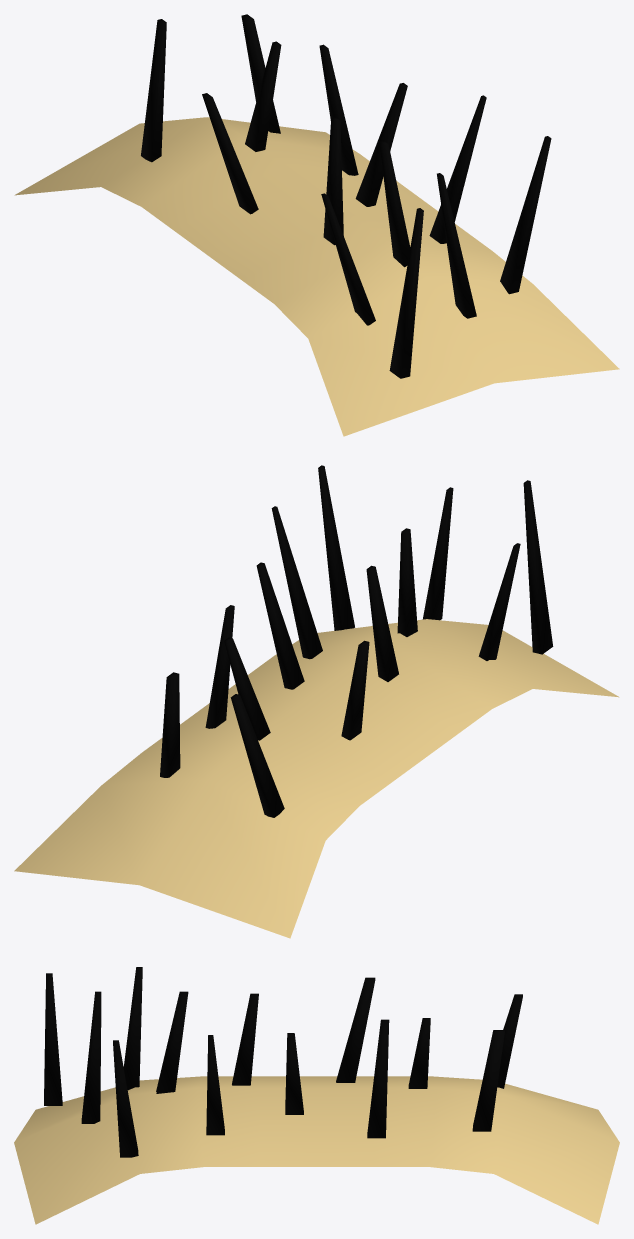
The model's file is kelimsi saç.fbx.
The picture shows the model from 3 angles, top to bottom: view 1: azimuth 30°, elevation 25°; view 2: azimuth 150°, elevation 25°; view 3: azimuth 270°, elevation 25°; orthographic projection. The views are drawn at different scales.
Parts seen in each view (by area): view 1: Uçak.011; view 2: Uçak.011; view 3: Uçak.011.
Part boxes in pixels (bbox=[...]): Uçak.011: bbox=[14, 14, 619, 436]; Uçak.011: bbox=[14, 465, 619, 938]; Uçak.011: bbox=[14, 967, 619, 1224].
Bounding box in the file's own units: 52.44 × 37.27 × 117.
